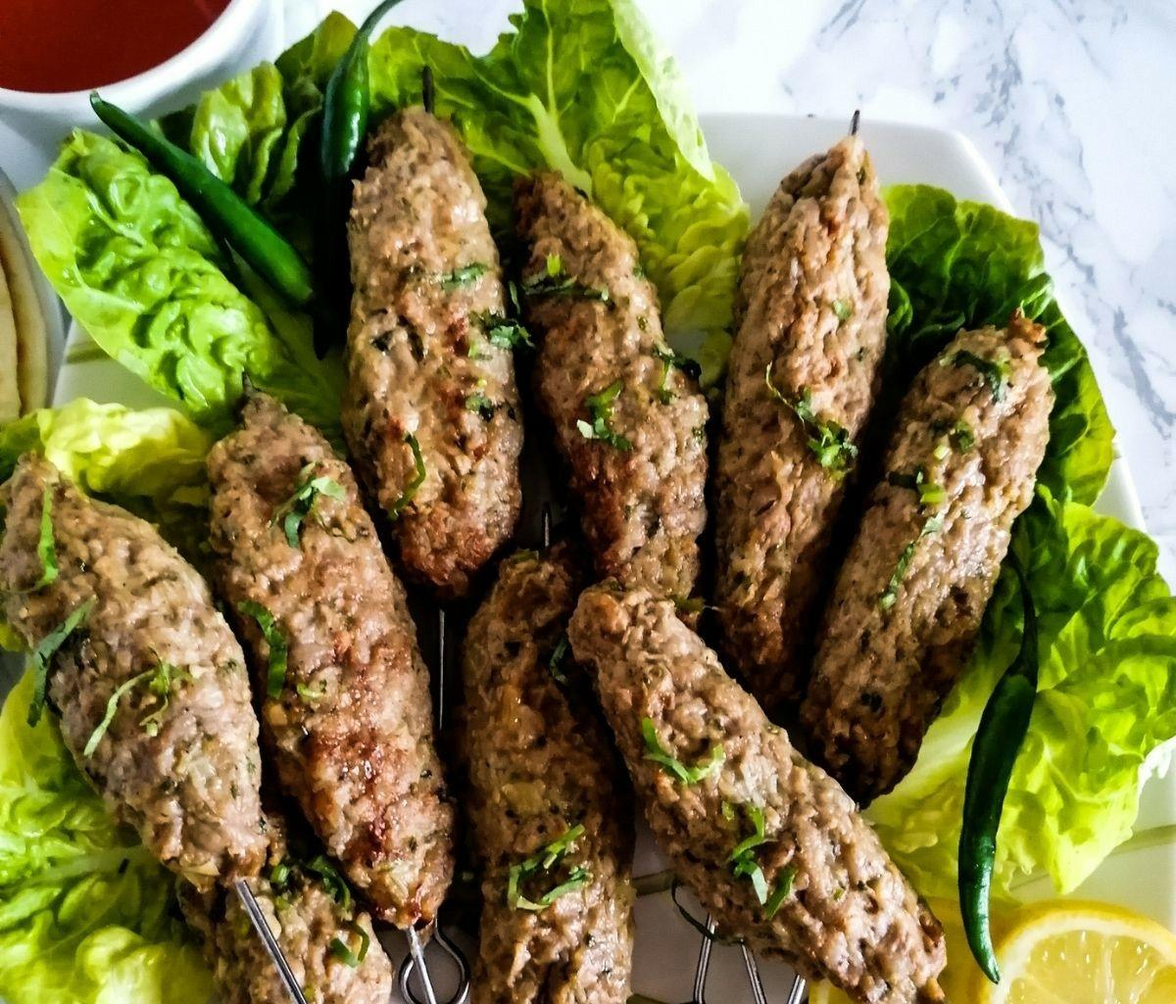Kebab: (567, 568, 944, 1004), (206, 395, 452, 927), (795, 317, 1053, 793), (0, 450, 270, 896), (711, 134, 889, 668), (501, 162, 708, 595), (342, 102, 523, 578), (452, 556, 630, 1004), (179, 817, 395, 1004)
